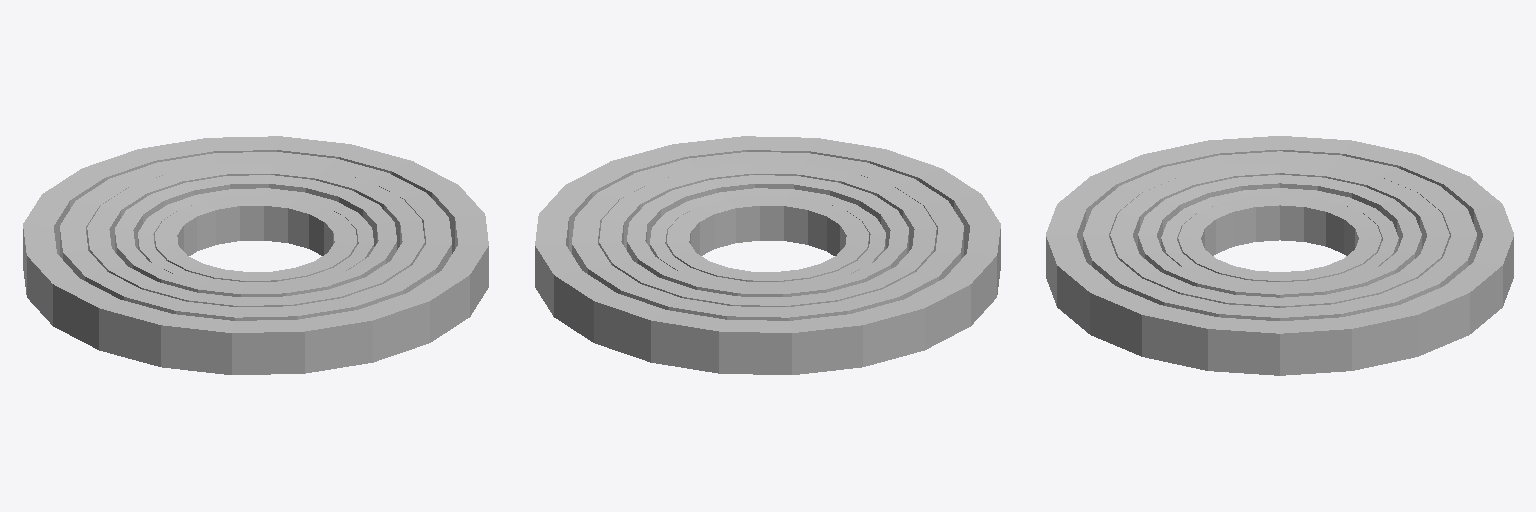
Rendered from Onion.obj.
3 renders of one model, left to right at view 1: azimuth 30°, elevation 25°; view 2: azimuth 150°, elevation 25°; view 3: azimuth 270°, elevation 25°, orthographic.
Parts seen in each view (by area): view 1: Onion_Cylinder; view 2: Onion_Cylinder; view 3: Onion_Cylinder.
Part boxes in pixels (left/top/right/bottom): Onion_Cylinder: left=23, top=136, right=488, bottom=374; Onion_Cylinder: left=535, top=136, right=1000, bottom=374; Onion_Cylinder: left=1046, top=136, right=1513, bottom=375.
Bounding box in the file's own units: 2 × 0.2005 × 2.